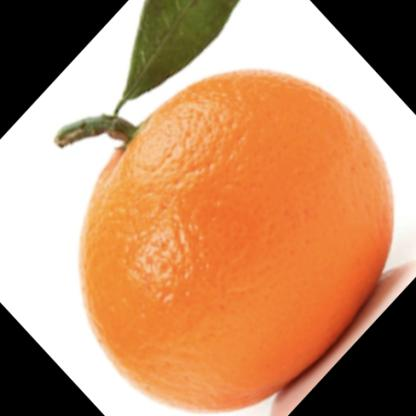fresh: (80, 68, 395, 409)
